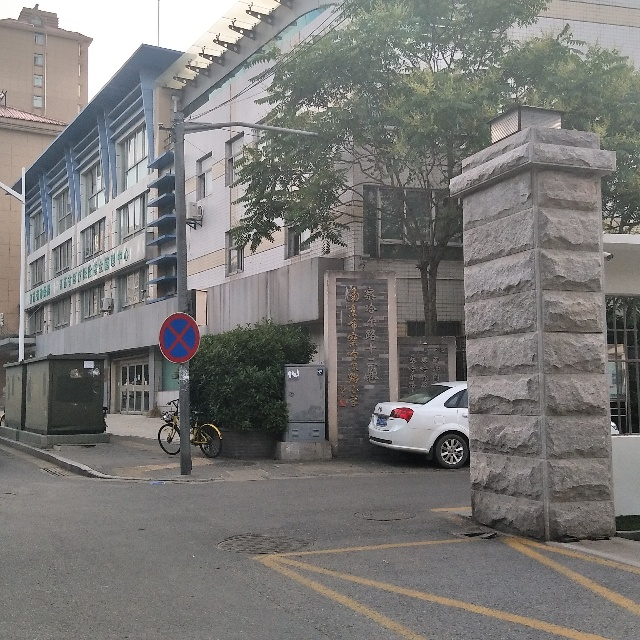stop: (164, 315, 194, 360)
